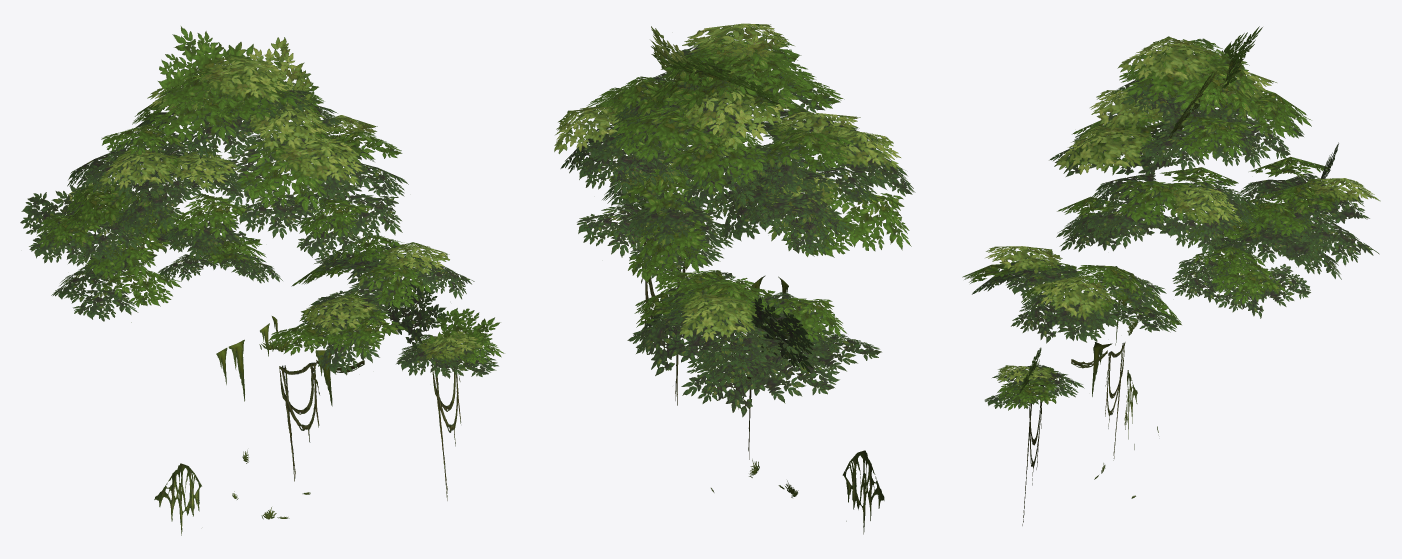
Rendered from zz_shuye_1.FBX.
3 renders of one model, left to right at view 1: azimuth 30°, elevation 25°; view 2: azimuth 150°, elevation 25°; view 3: azimuth 270°, elevation 25°, orthographic. The views are drawn at different scales.
Visible parts, largest first — view 1: zz_shuye_1; view 2: zz_shuye_1; view 3: zz_shuye_1.
Part boxes in pixels (x1=…): zz_shuye_1: x1=20, y1=26, x2=504, y2=535; zz_shuye_1: x1=554, y1=23, x2=915, y2=534; zz_shuye_1: x1=962, y1=26, x2=1380, y2=525.
Bounding box in the file's own units: 1652 × 2007 × 1686.
